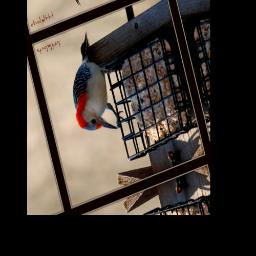Woodpecker: (58, 24, 128, 143)
